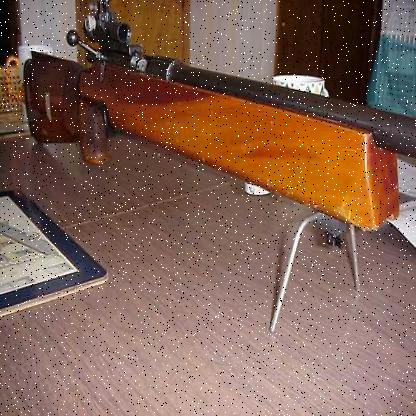rifle: (13, 1, 415, 284)
